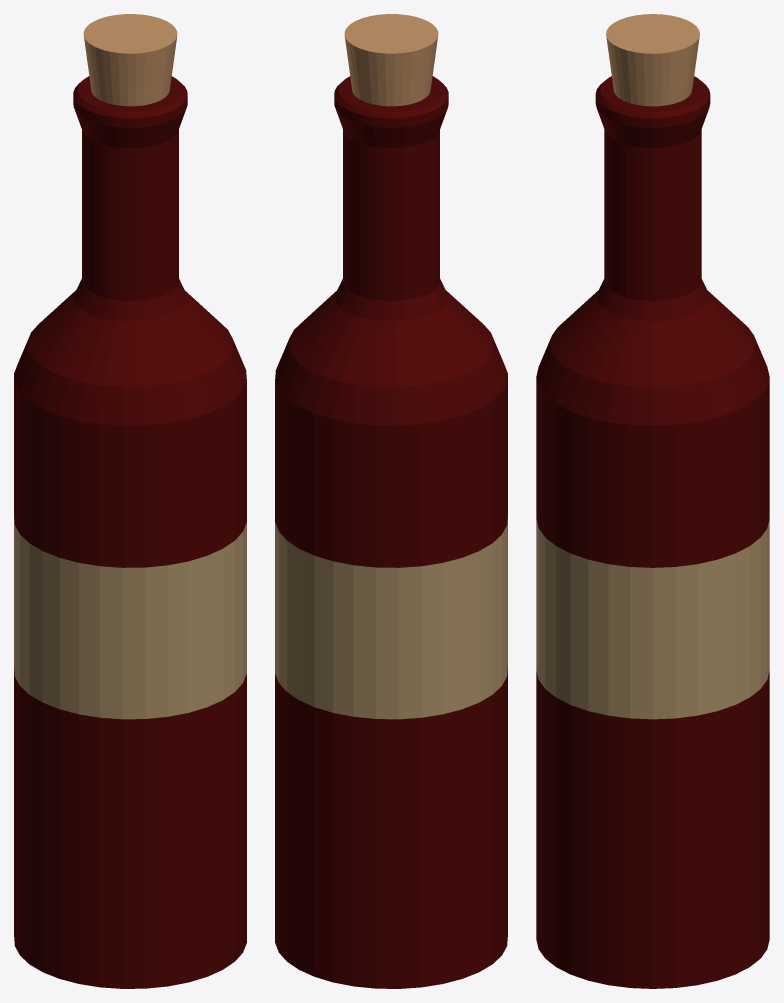
The model's file is WineBottle1_Red.fbx.
3 renders of one model, left to right at view 1: azimuth 30°, elevation 25°; view 2: azimuth 150°, elevation 25°; view 3: azimuth 270°, elevation 25°, orthographic.
Parts seen in each view (by area): view 1: WineBottle V1 Red; view 2: WineBottle V1 Red; view 3: WineBottle V1 Red.
Part boxes in pixels (x1=…): WineBottle V1 Red: x1=14, y1=14, x2=246, y2=988; WineBottle V1 Red: x1=275, y1=14, x2=507, y2=988; WineBottle V1 Red: x1=536, y1=14, x2=769, y2=988.
Size of the model in its own units: 7 by 30 by 7.
